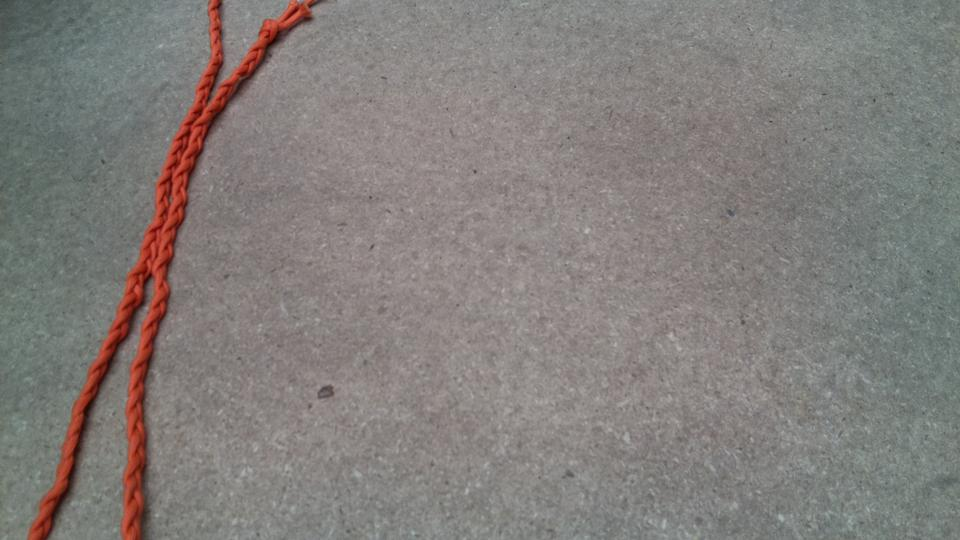rope: (26, 5, 318, 540)
